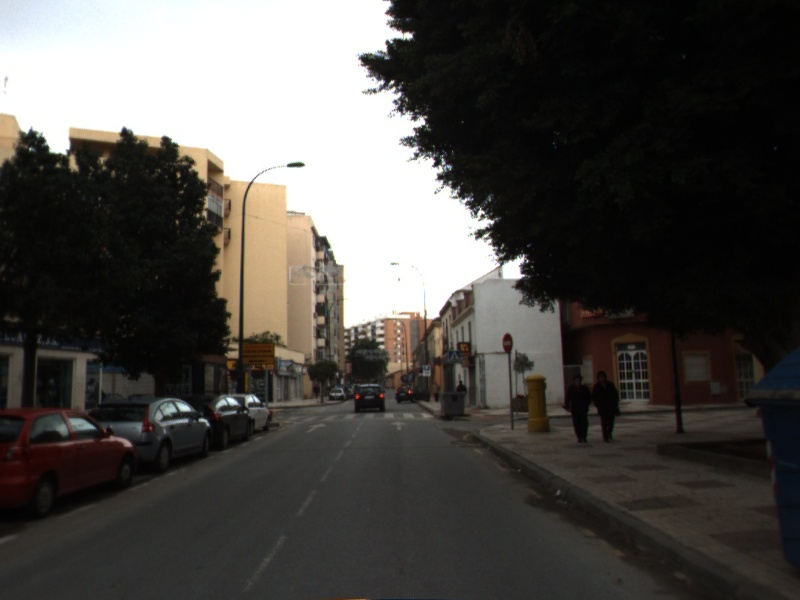STRAIGHT: (304, 421, 329, 434), (388, 419, 410, 432)
